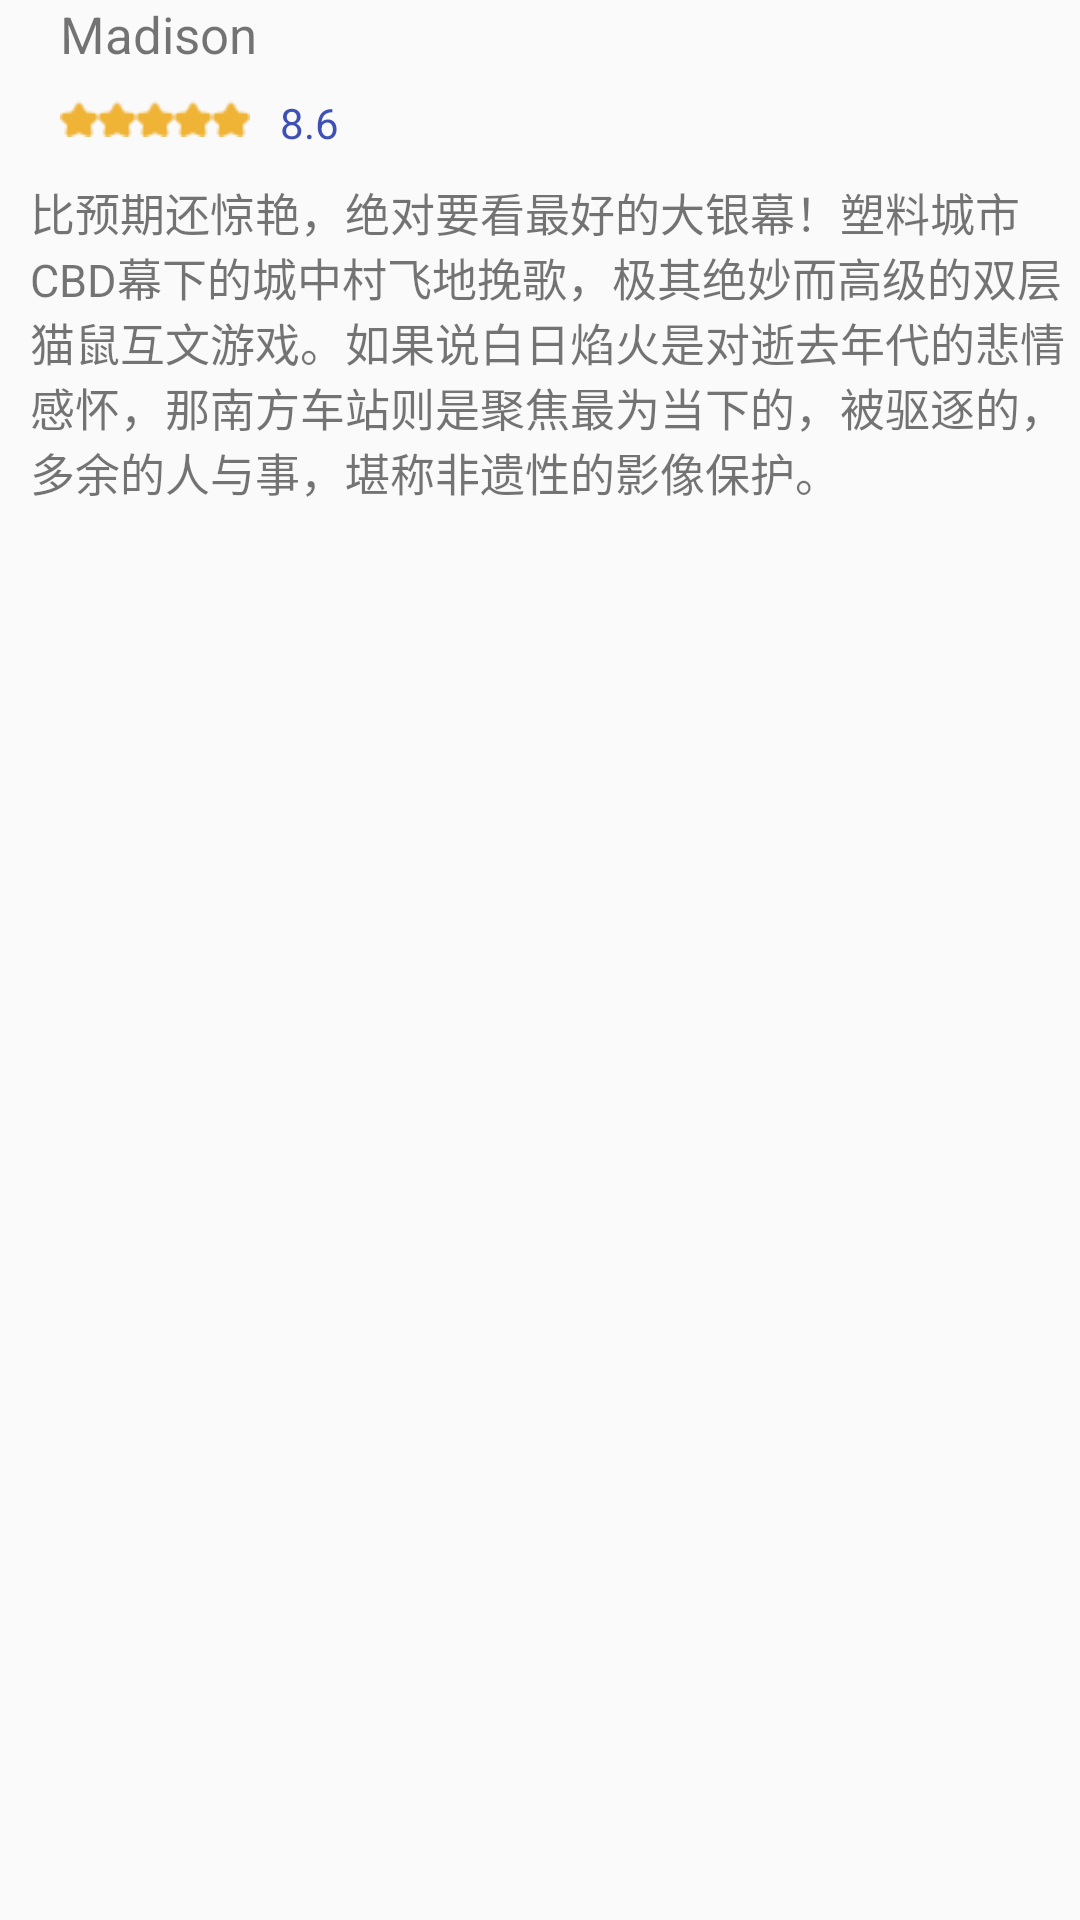

Screen size 1080 × 1920. Icon name, then its box in pixels as detection(x1, y1, x2, y2):
star: detection(60, 101, 98, 137), detection(98, 101, 136, 137), detection(136, 101, 174, 137), detection(174, 101, 212, 137), detection(212, 101, 250, 137)
